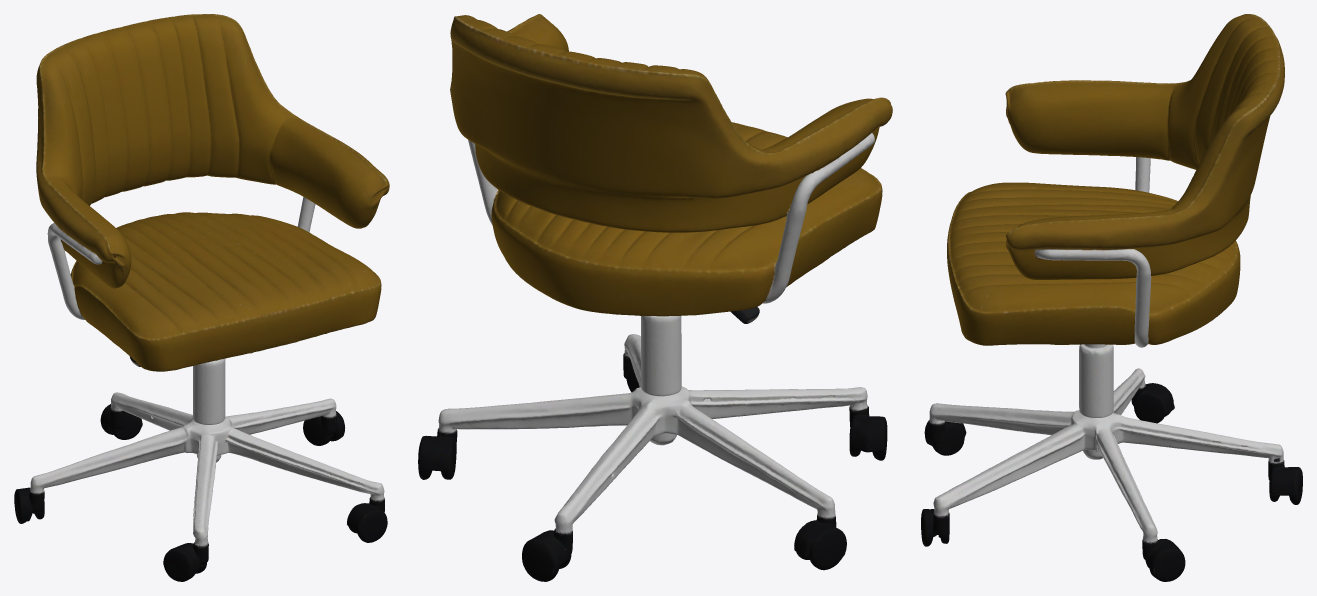
Rendered from 15_米棕色会议转椅.glb.
3 renders of one model, left to right at view 1: azimuth 30°, elevation 25°; view 2: azimuth 150°, elevation 25°; view 3: azimuth 270°, elevation 25°, orthographic. The views are drawn at different scales.
Parts seen in each view (by area): view 1: world; view 2: world; view 3: world.
Boxes of the visible parts, x1=… form: world: x1=14, y1=14, x2=389, y2=581; world: x1=418, y1=14, x2=892, y2=581; world: x1=921, y1=14, x2=1302, y2=581.
Bounding box in the file's own units: 0.8395 × 1 × 0.7873.
1 material, 1 textured.
